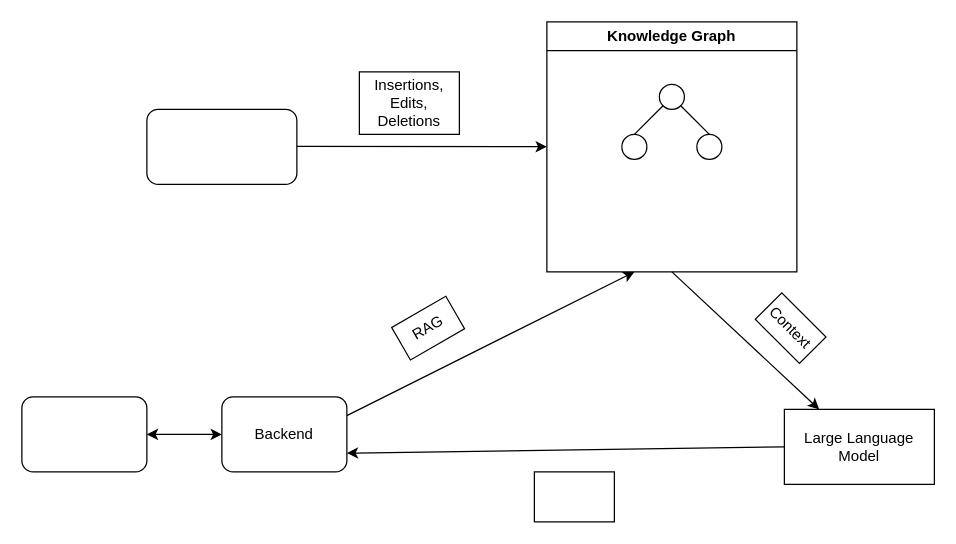
This 956x544 diagram has some shape labels left out. Each missing label, with the box of its shape:
Instructor View: (146, 108, 297, 184)
LLM Response: (533, 471, 614, 522)
Student View: (21, 396, 147, 472)
